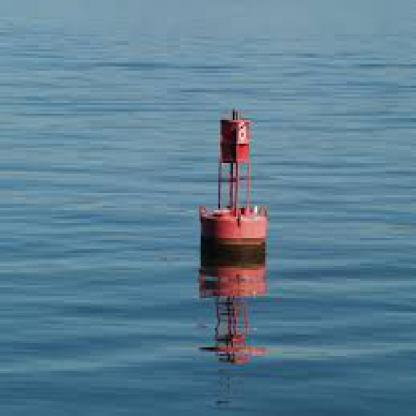buoy: (191, 101, 278, 264)
